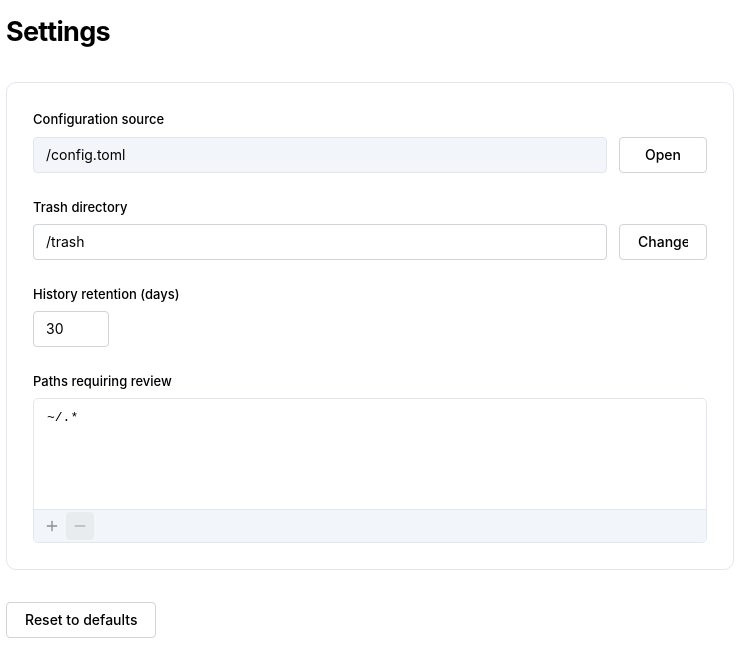
Test case: Settings editing › uses a selected directory without showing validation feedback
Step 1. Click the button "Change" → point(663, 242), box 619,224 -> 707,260
Wait 250 ms
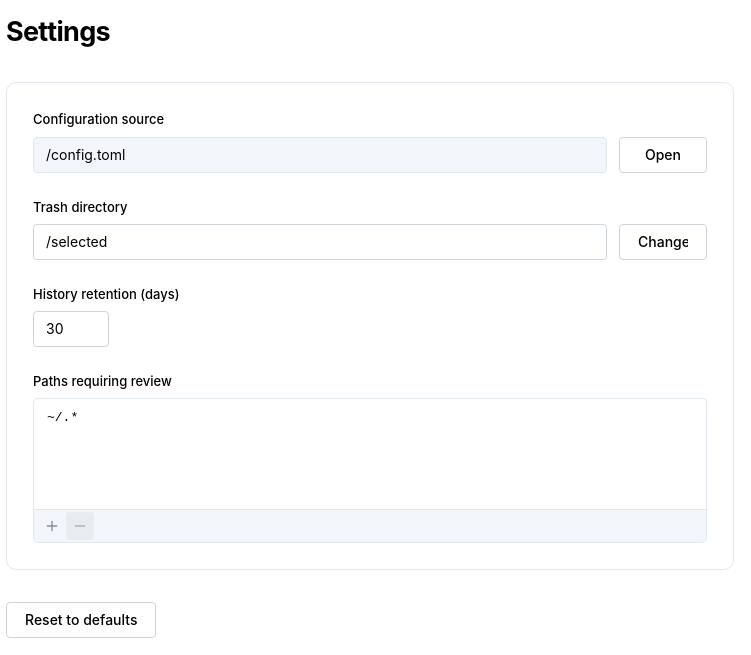
expect the field labelled "Trash directory" holds "/selected": met, box 33,224 -> 607,260
